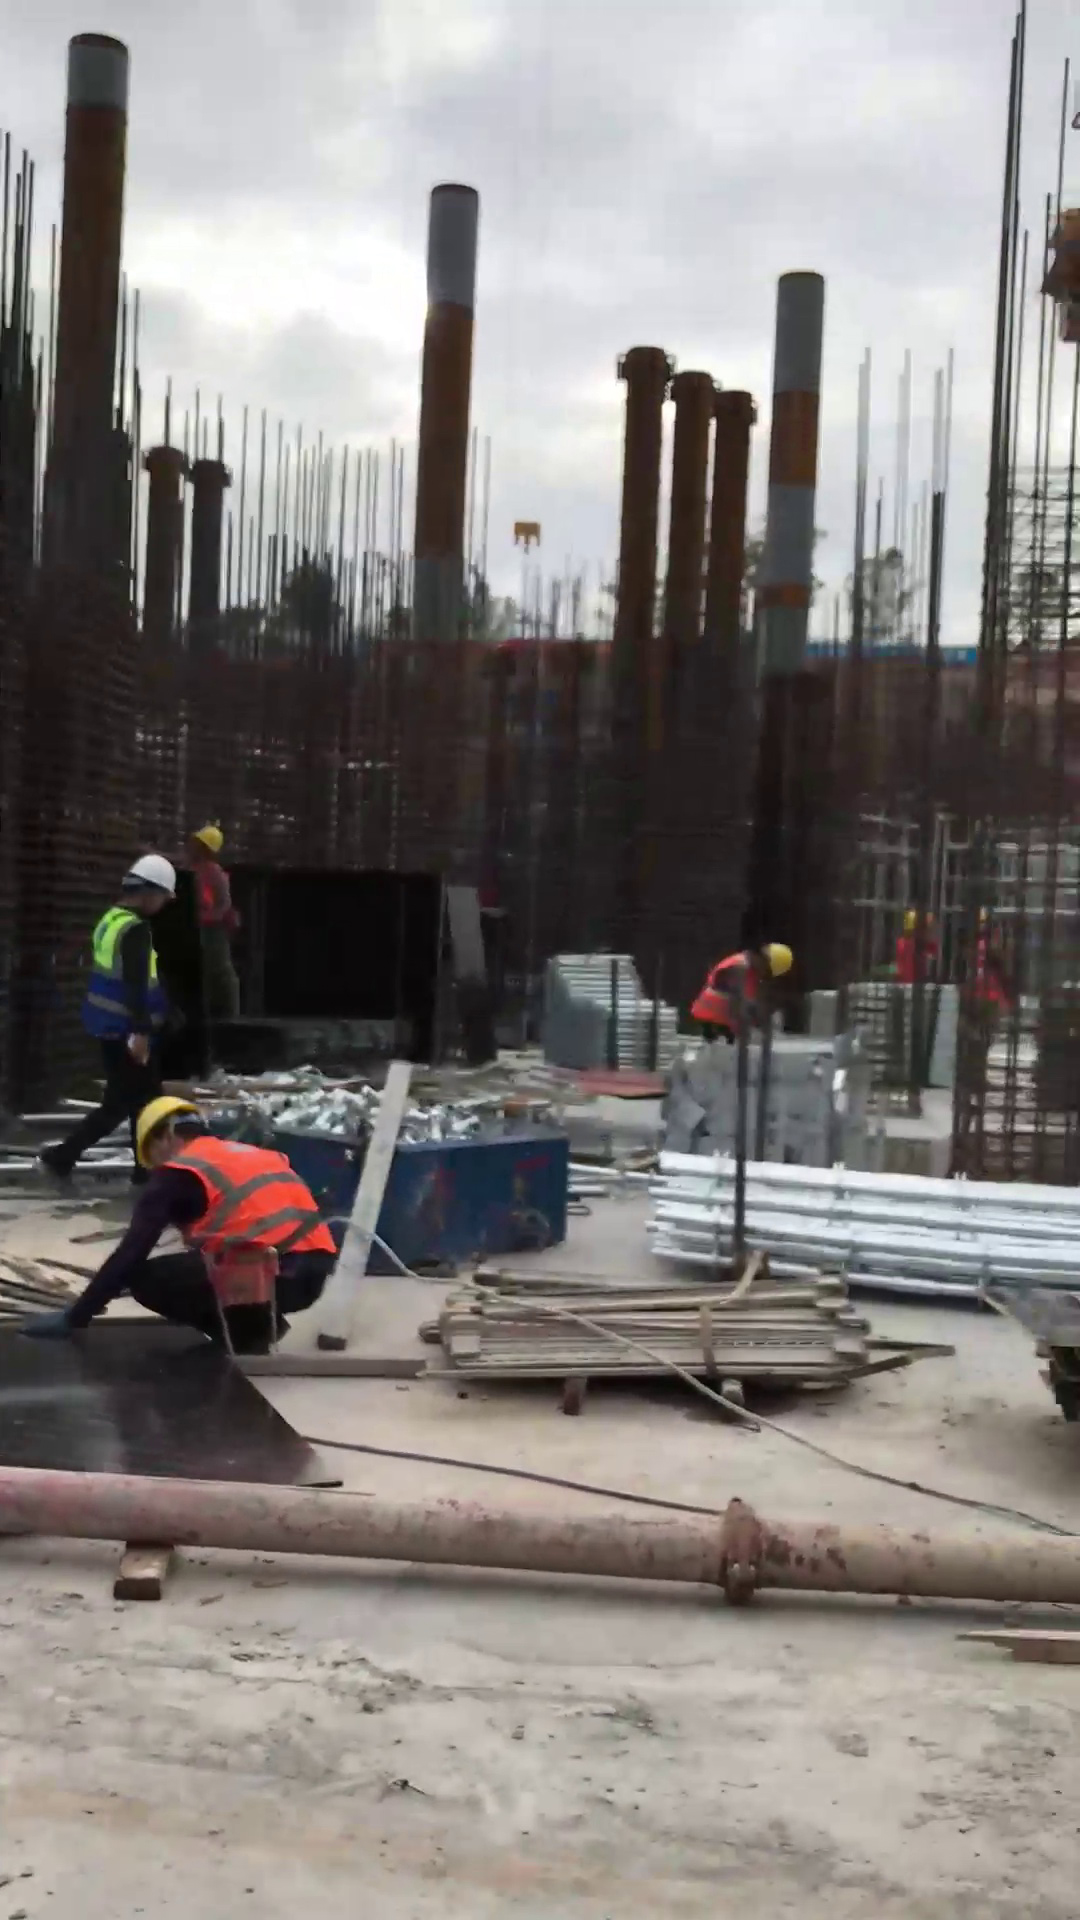helmet: (123, 1087, 199, 1158), (118, 844, 179, 908), (758, 932, 802, 992), (192, 819, 231, 861)
hook: (502, 520, 554, 560)
hopper: (273, 1087, 587, 1277)
person: (84, 1089, 347, 1374), (29, 845, 197, 1200), (674, 926, 810, 1079), (178, 808, 260, 1032)
scaffold: (545, 934, 676, 1098)
vest: (158, 1131, 336, 1260), (74, 900, 176, 1060), (682, 950, 760, 1048), (189, 853, 242, 927)
